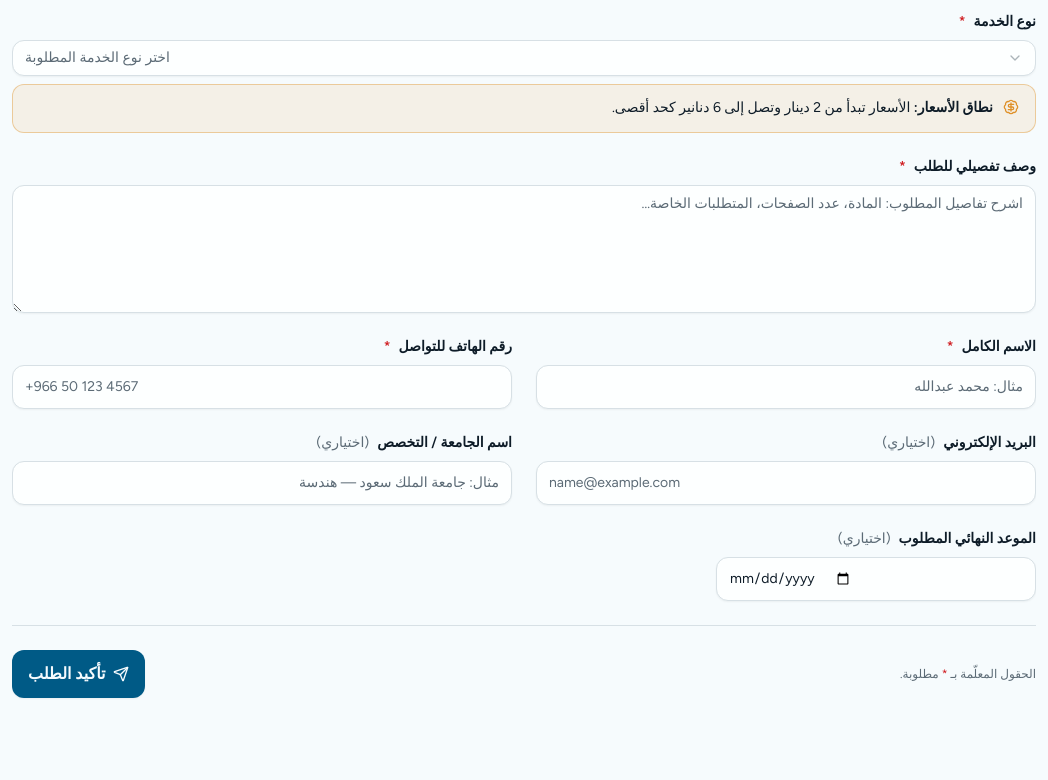
it: RequestForm › surfaces a backend failure without reporting success
This screenshot has width=1048, height=780.
Click the dropdown with test id "request.service_type.select" at (97, 58), box [12,40,1036,76]
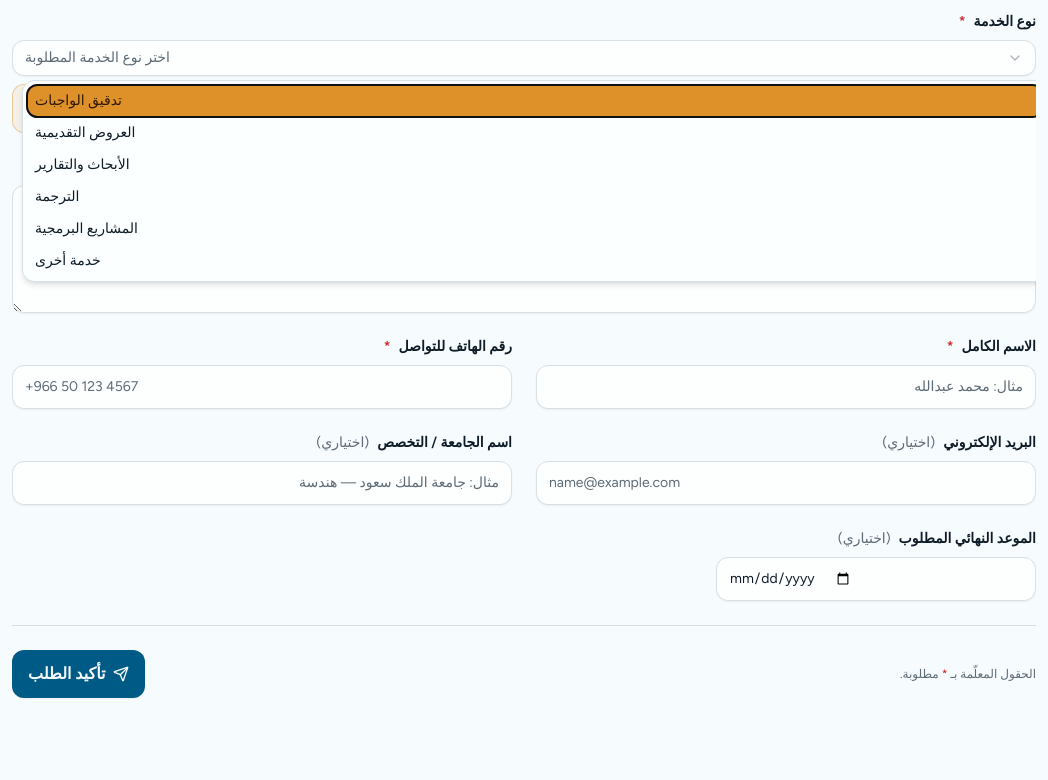
Click the option "تدقيق الواجبات" at (78, 100), box [27,85,1036,117]
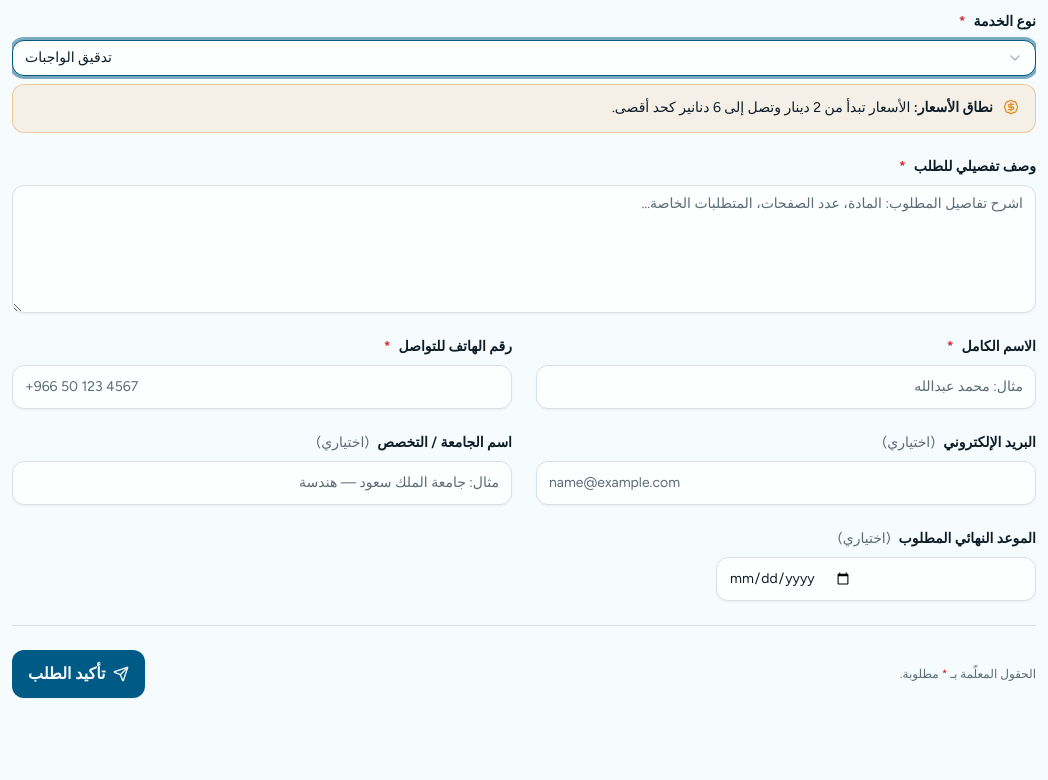
Type "حل واجب الرياضيات الفصل الأول" into the text box with test id "request.description.textarea" at (524, 249), box [12,185,1036,313]
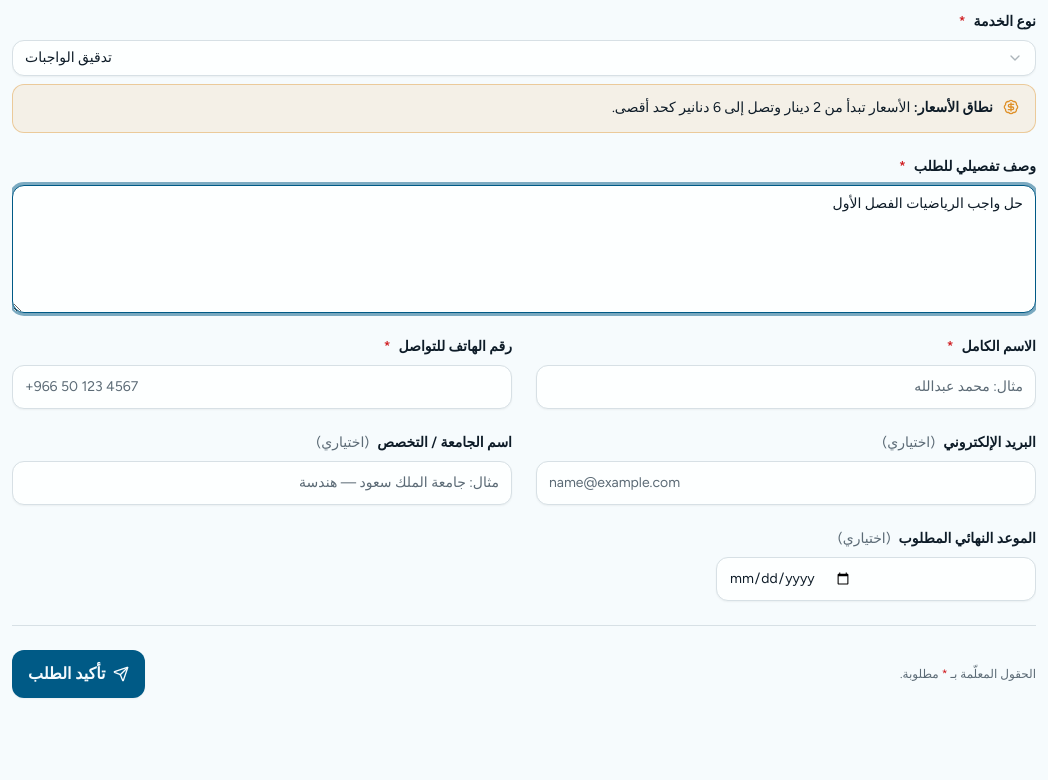
Type "محمد عبدالله" into the field with test id "request.full_name.input" at (786, 387), box [536,365,1036,409]
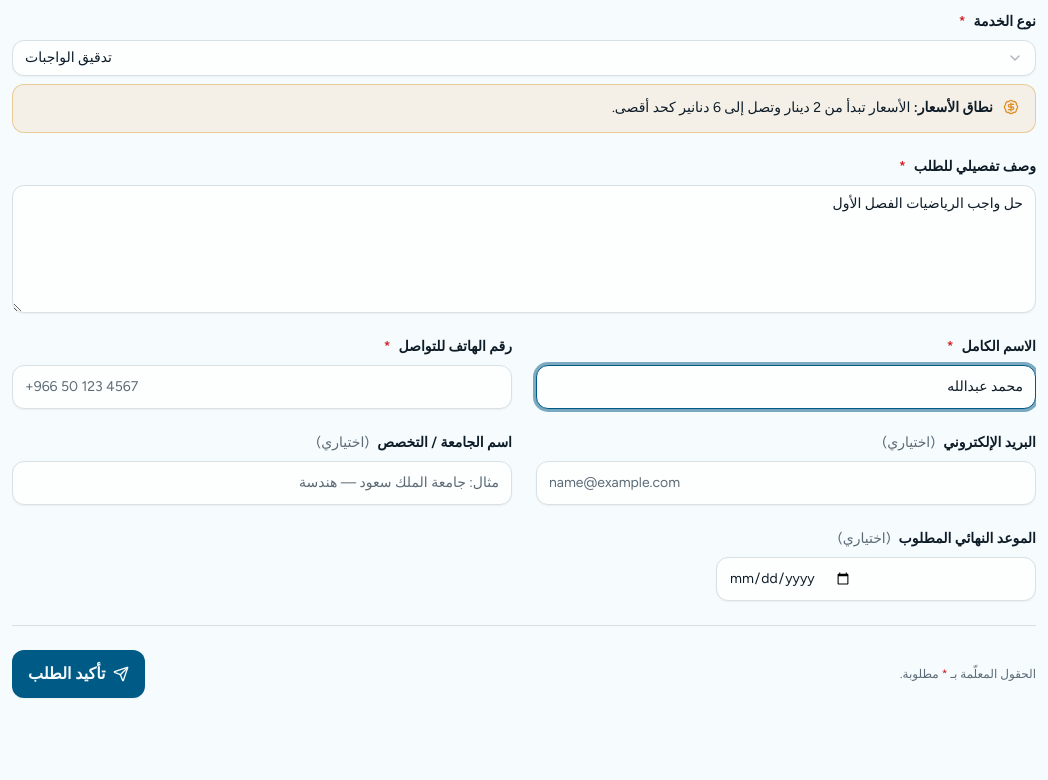
Type "0501234567" into the field with test id "request.phone.input" at (262, 387), box [12,365,512,409]
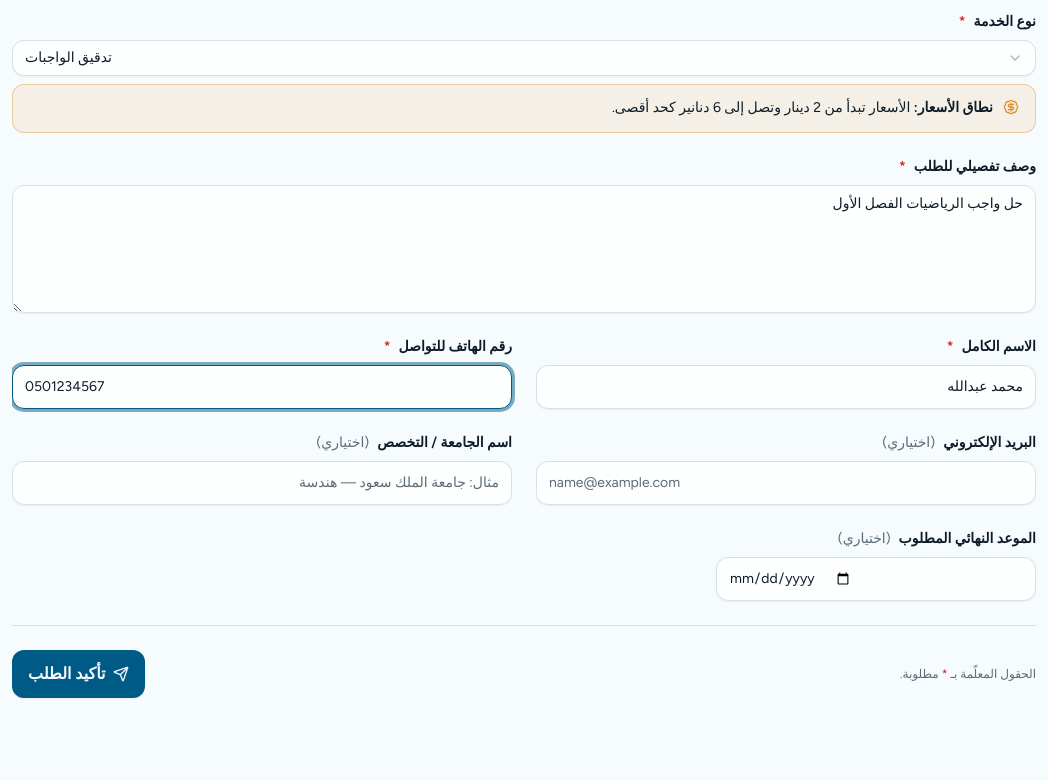
Click the button with test id "request.submit_button" at (79, 674), box [12,650,146,698]
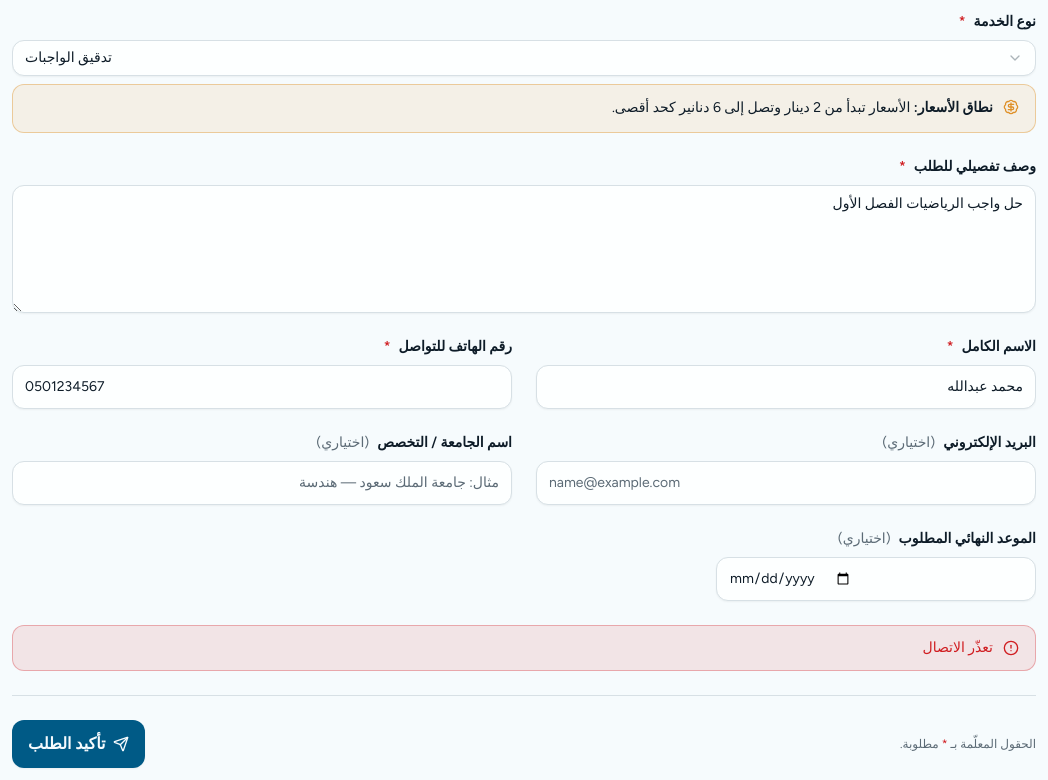
Now the message reads "تعذّر الاتصال", box [922,639,993,656]
